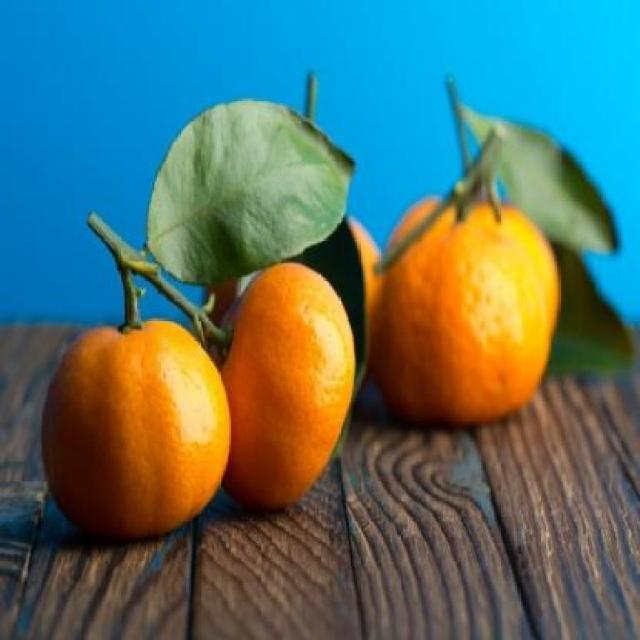Orange: (368, 192, 562, 425), (38, 317, 231, 538), (217, 260, 355, 509)
